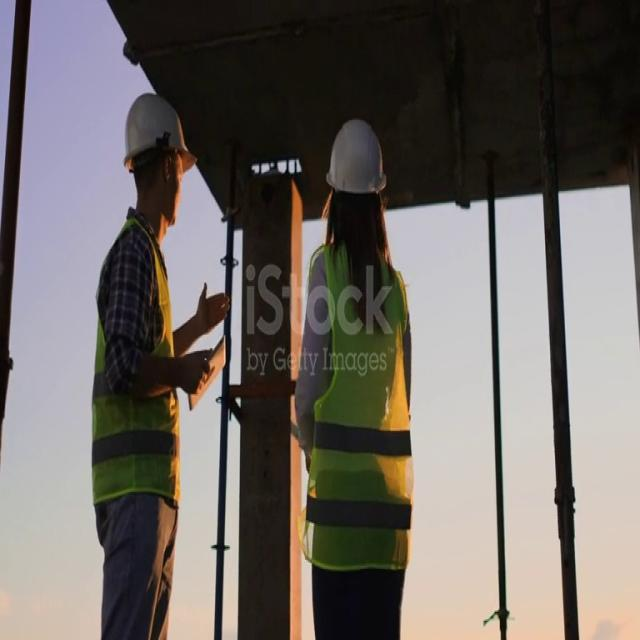capacete: (313, 107, 395, 208), (106, 84, 201, 169)
